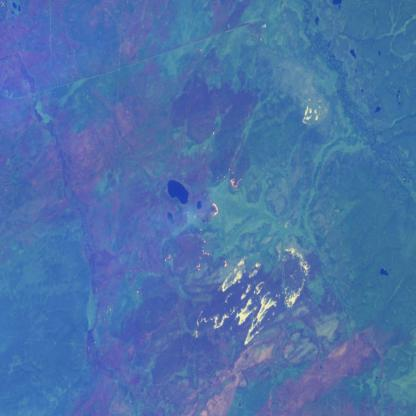fire: (191, 236, 312, 352), (203, 167, 245, 225), (300, 99, 328, 129)
